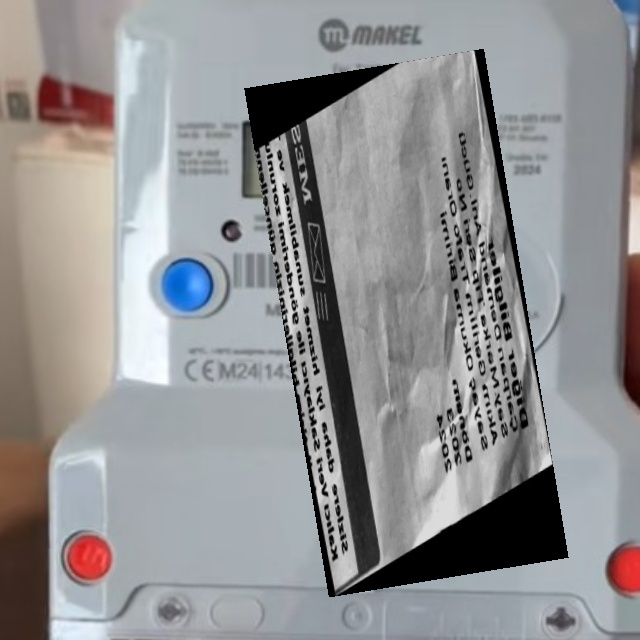electricity-bill: (244, 48, 568, 596)
